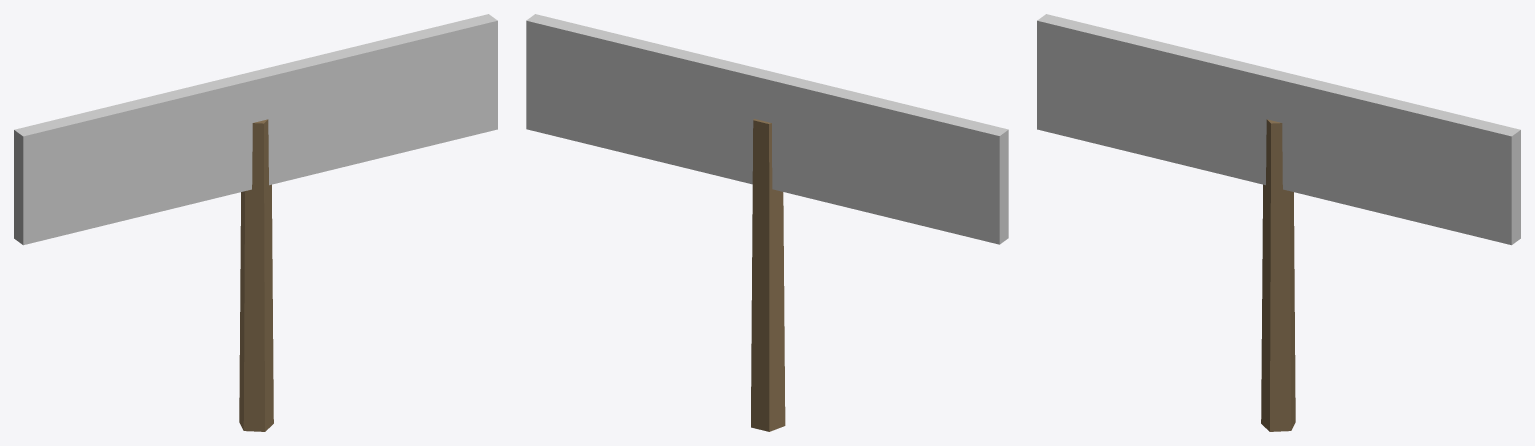
Rendered from sign.glb.
The picture shows the model from 3 angles, left to right: view 1: azimuth 30°, elevation 25°; view 2: azimuth 150°, elevation 25°; view 3: azimuth 330°, elevation 25°; orthographic projection.
Parts seen in each view (by area): view 1: Sign_Board, sign; view 2: Sign_Board, sign; view 3: Sign_Board, sign.
Part boxes in pixels (x1,y1,x2,y2): Sign_Board: [14, 14, 497, 245]; sign: [239, 119, 273, 431]; Sign_Board: [526, 14, 1008, 244]; sign: [751, 119, 785, 431]; Sign_Board: [1037, 14, 1520, 245]; sign: [1261, 119, 1295, 431].
Size of the model in its own units: 2.1 by 1.48 by 0.1266.
